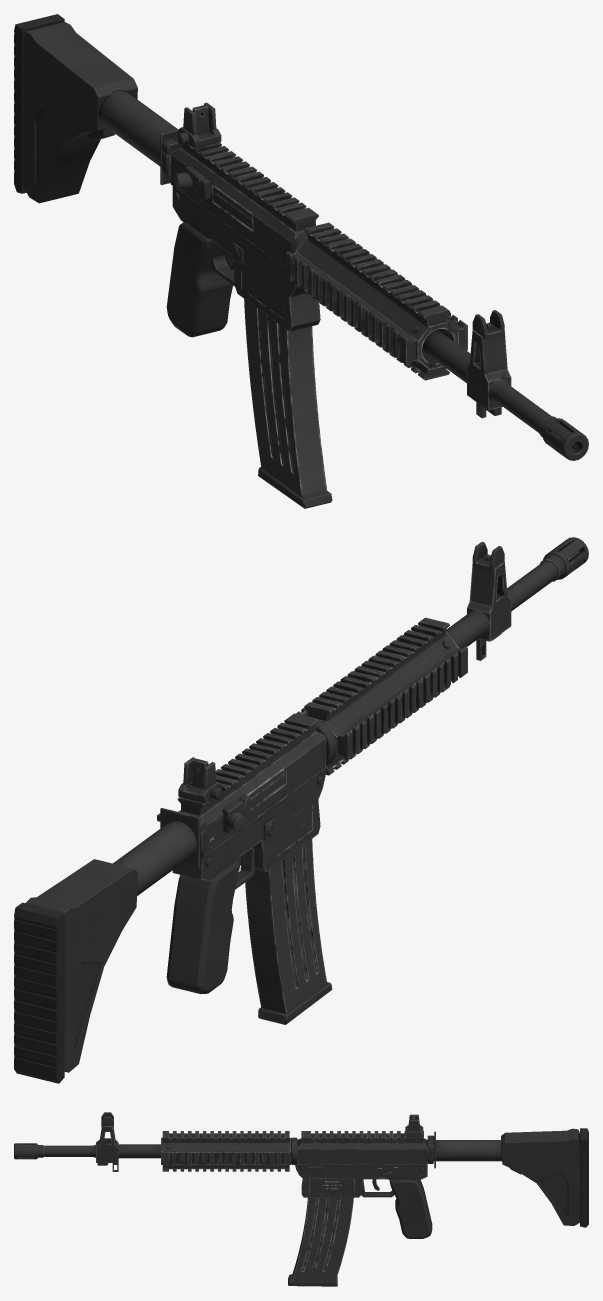
File: m4_carbine.glb
3 renders of one model, top to bottom at view 1: azimuth 30°, elevation 25°; view 2: azimuth 150°, elevation 25°; view 3: azimuth 270°, elevation 25°, orthographic. The views are drawn at different scales.
Visible parts, largest first — view 1: body, magazine, rear_sight; view 2: body, magazine, rear_sight; view 3: body, magazine, rear_sight.
Boxes of the visible parts, <box> form: body: <box>14,14,588,460</box>; magazine: <box>244,299,332,508</box>; rear_sight: <box>177,102,221,148</box>; body: <box>14,537,588,1083</box>; magazine: <box>245,839,332,1024</box>; rear_sight: <box>178,757,222,803</box>; body: <box>14,1112,588,1238</box>; magazine: <box>288,1197,353,1286</box>; rear_sight: <box>405,1114,423,1137</box>.
Bounding box in the file's own units: 0.0534 × 0.249 × 0.77.
Materials: 1 (1 with a texture image).
